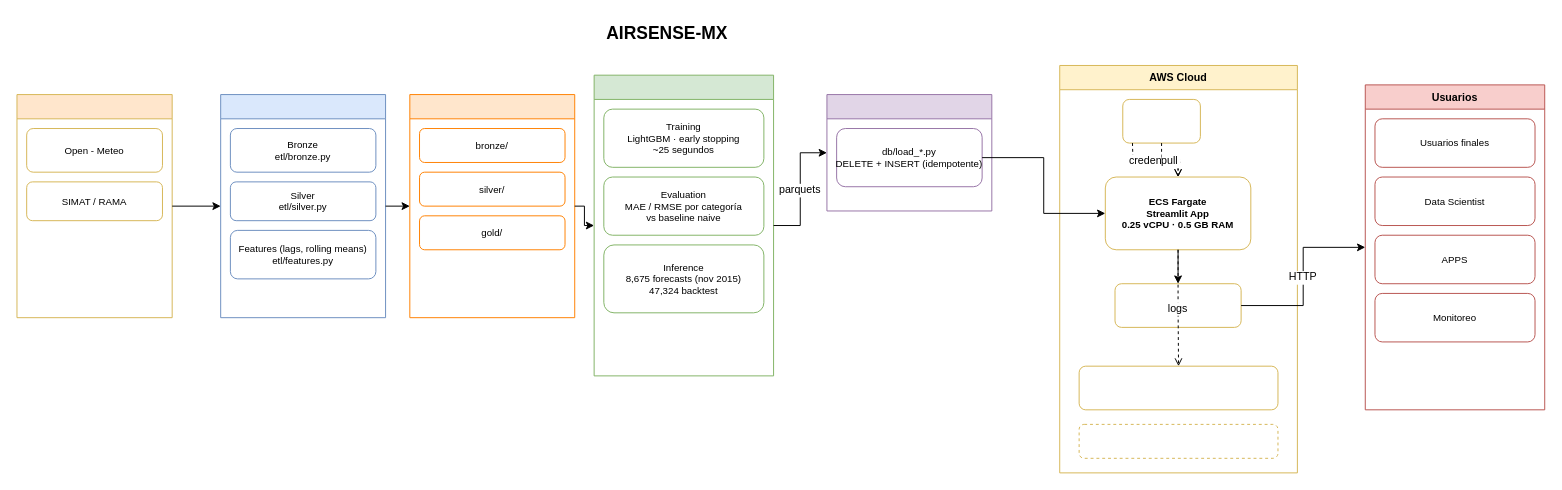
Image size: 1562x490. Some labels were removed from this diagram. Here are the shapes that lost their labels. From the top down, the box of each, then its label:
(1122, 98, 1200, 143): ECR Docker image
(826, 94, 992, 211): DB Loaders
(16, 94, 172, 318): Datos Crudos (CSV-JSON)
(220, 94, 386, 318): ETL Pipeline (local)
(409, 94, 575, 318): S3 Data Lake (AWS)
(593, 74, 774, 376): Pipeline ML (offline / local)
(1114, 283, 1241, 327): ALB (internet-facing) :80 → :8501
(1078, 365, 1278, 410): CloudWatch Logs /ecs/forecast-app
(1078, 423, 1278, 458): CloudFormation infra/core.yaml
